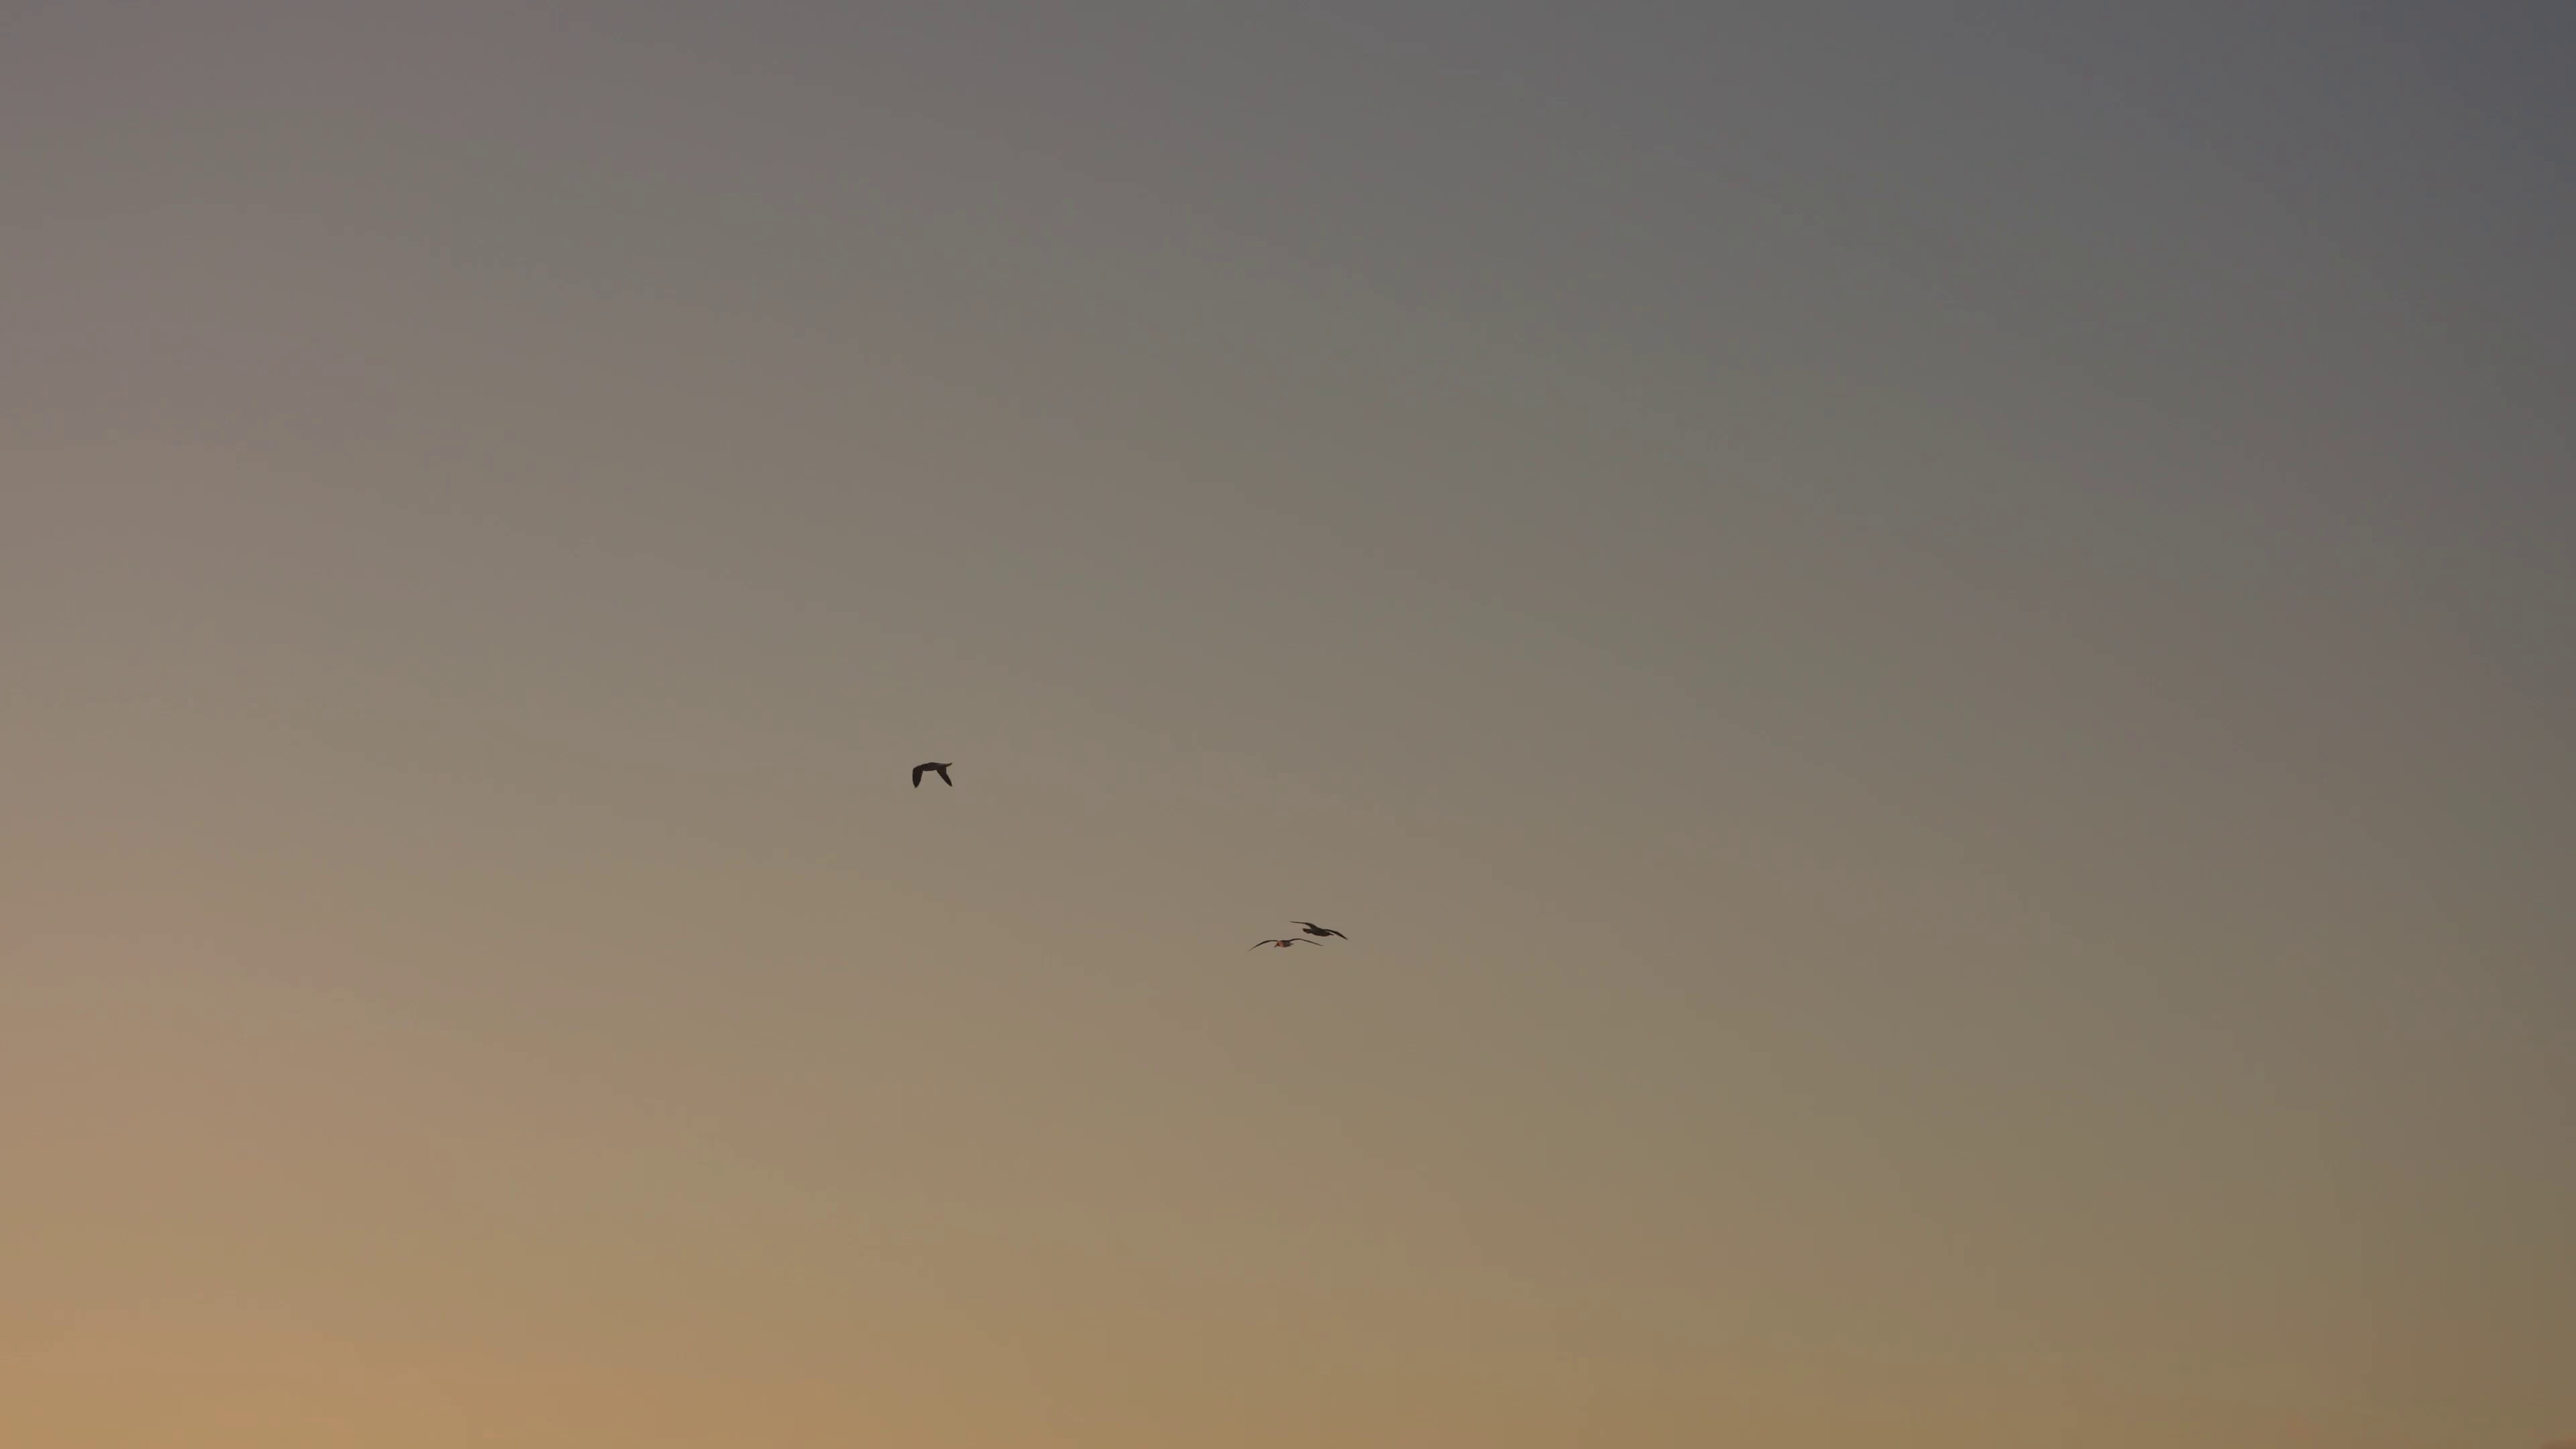bird: (1288, 918, 1348, 939), (911, 757, 955, 786), (1249, 938, 1323, 950)
